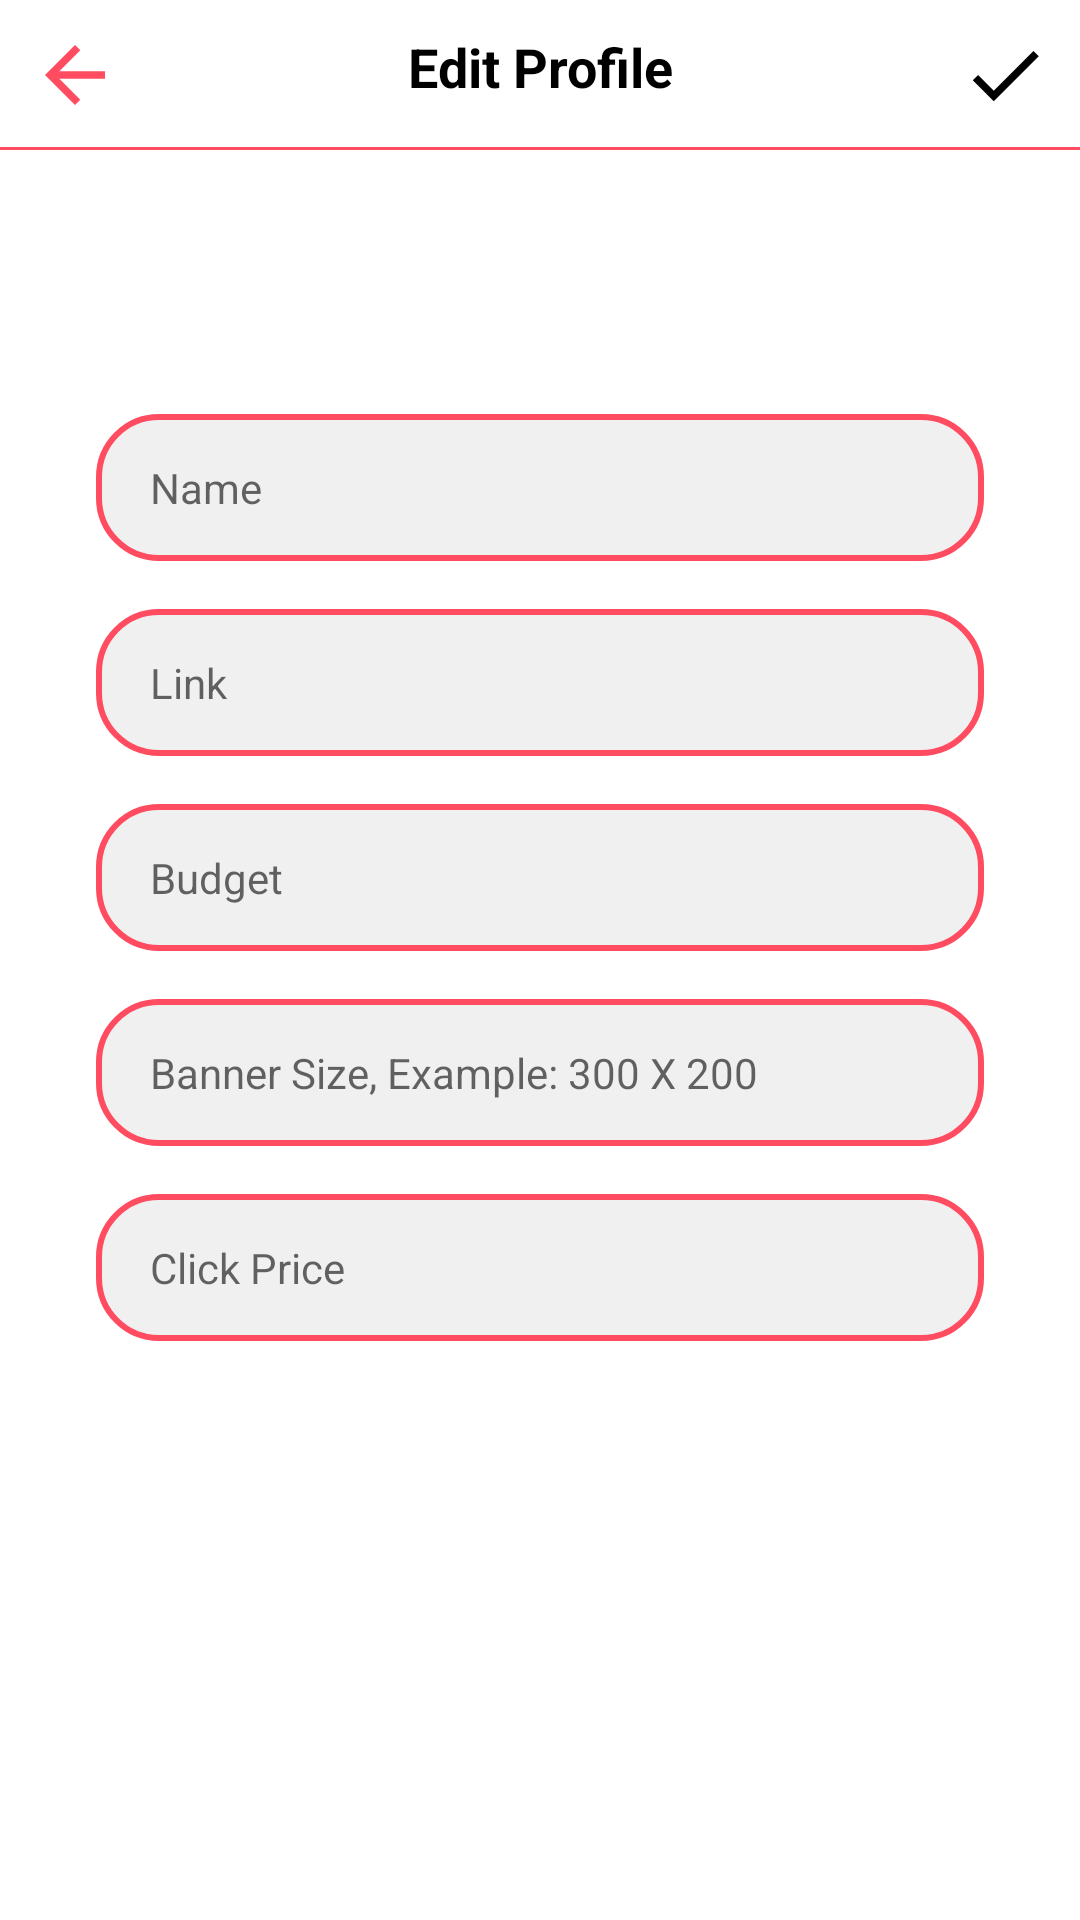

Icons on this 1080px×1920px Android screen, each with the point to tap as (x,y):
check: (1006,76)
short arrow: (75,75)
